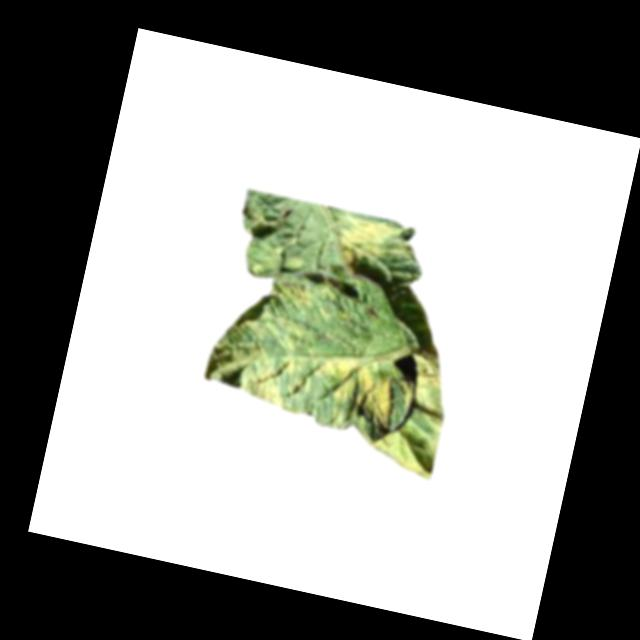Leaf_Mold: (309, 348, 402, 440), (323, 210, 425, 289), (233, 345, 301, 410), (406, 343, 449, 394), (273, 275, 315, 312)
